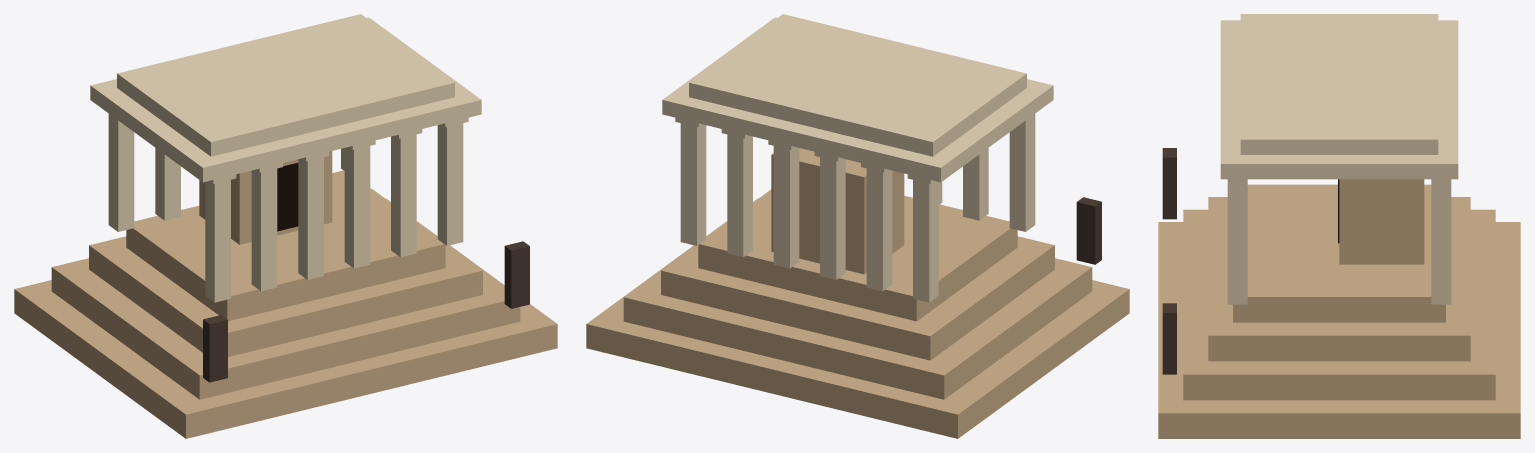
Rendered from temple.glb.
3 renders of one model, left to right at view 1: azimuth 30°, elevation 25°; view 2: azimuth 150°, elevation 25°; view 3: azimuth 270°, elevation 25°, orthographic. The views are drawn at different scales.
Visible parts, largest first — view 1: Temple; view 2: Temple; view 3: Temple.
Part boxes in pixels (x1,y1,x2,y2): Temple: (14,14,557,438); Temple: (586,14,1129,438); Temple: (1158,14,1520,438).
Size of the model in its own units: 16 by 10.4 by 12.8.
